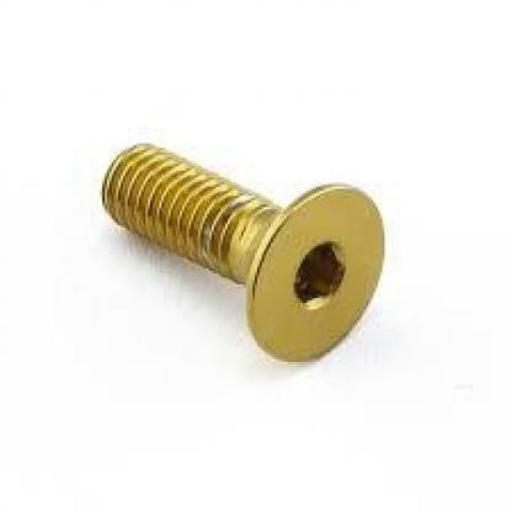bolt: (102, 142, 385, 363)
